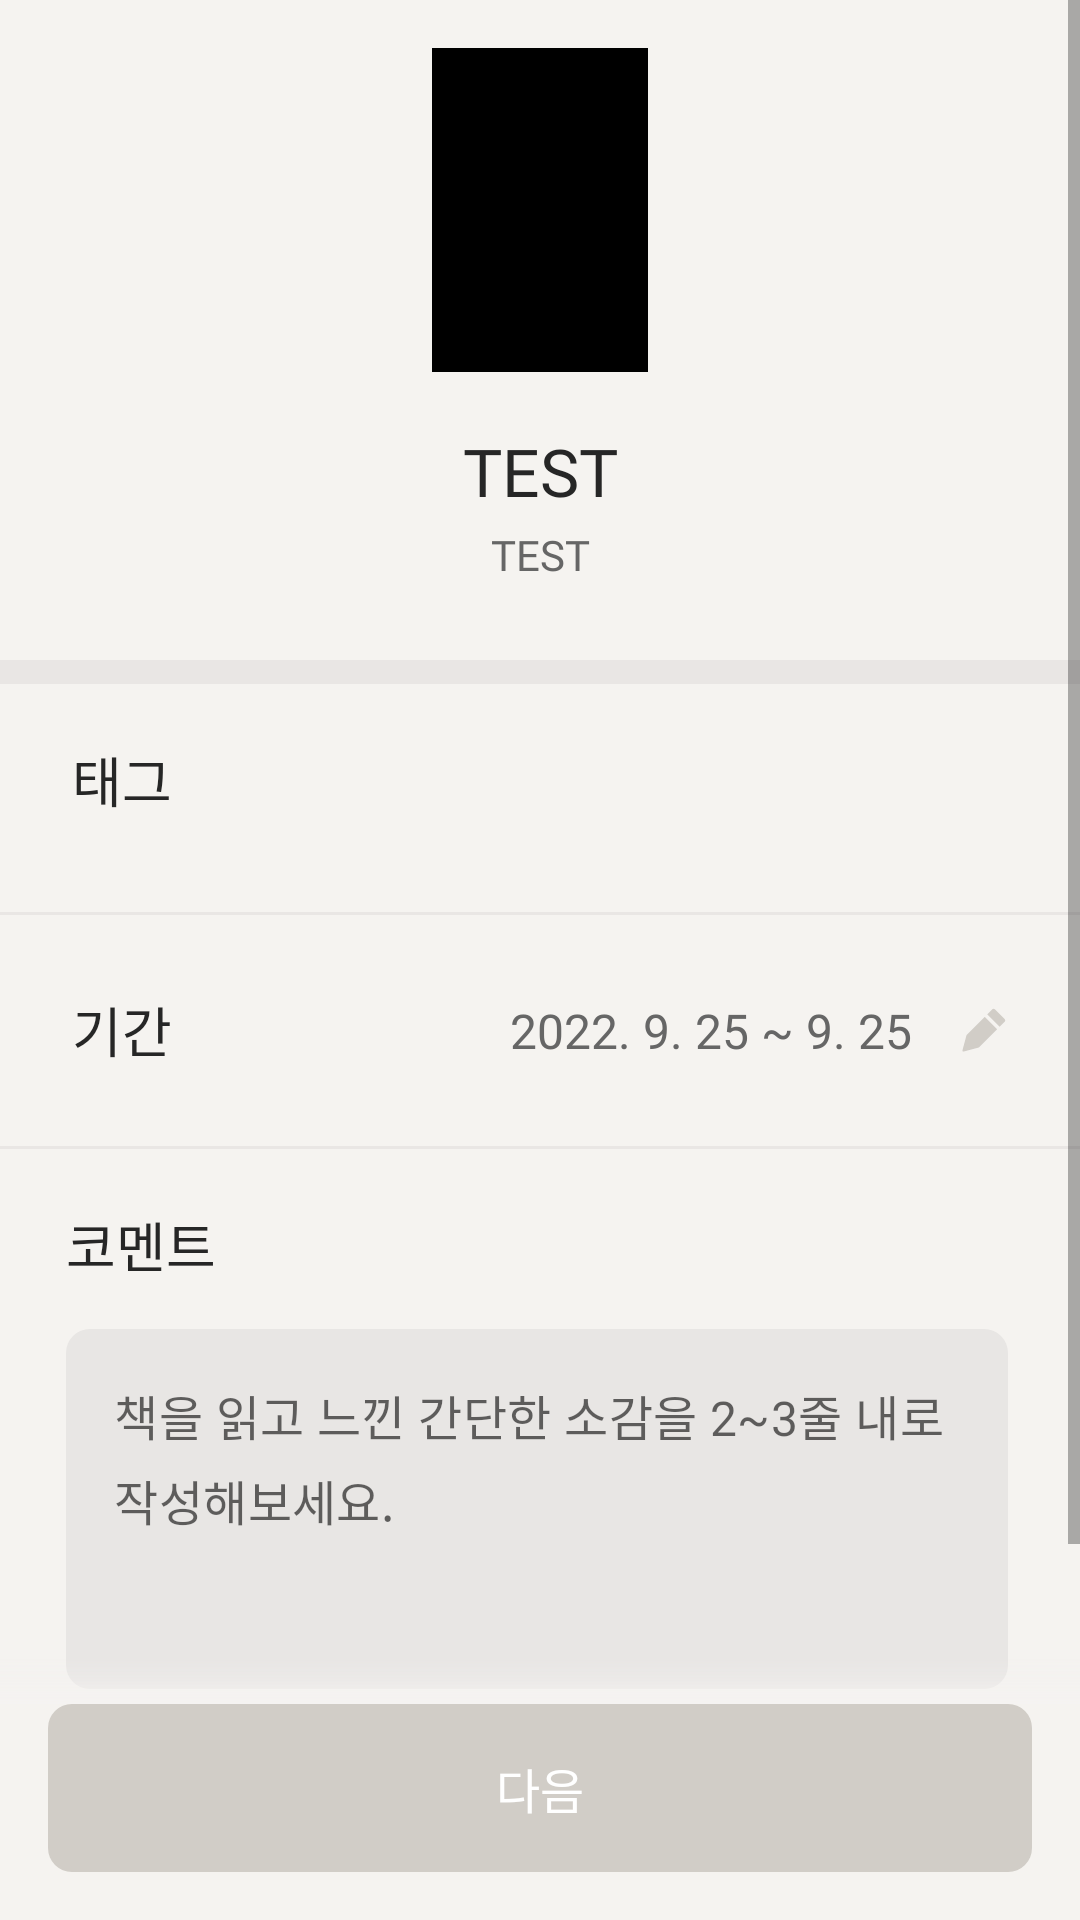

Icons on this 1080*1920 Android screen, each with the point to tap as (x=x, y=y):
pencil mono: (x=984, y=1030)
